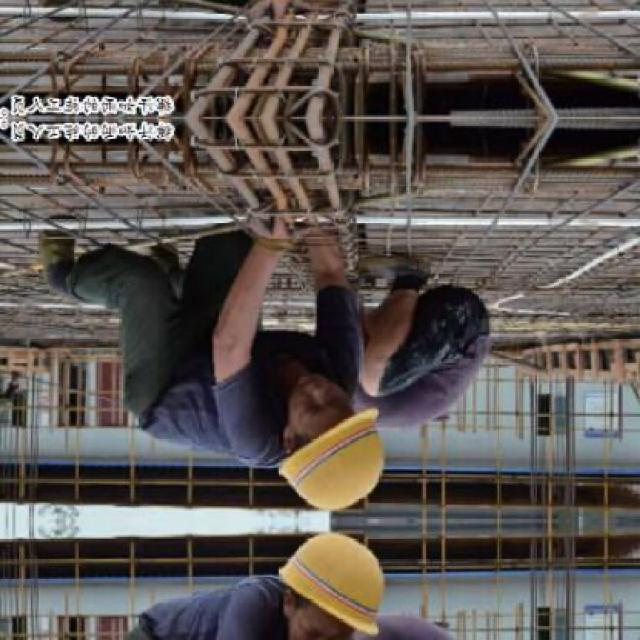con casco: (259, 387, 397, 522)
